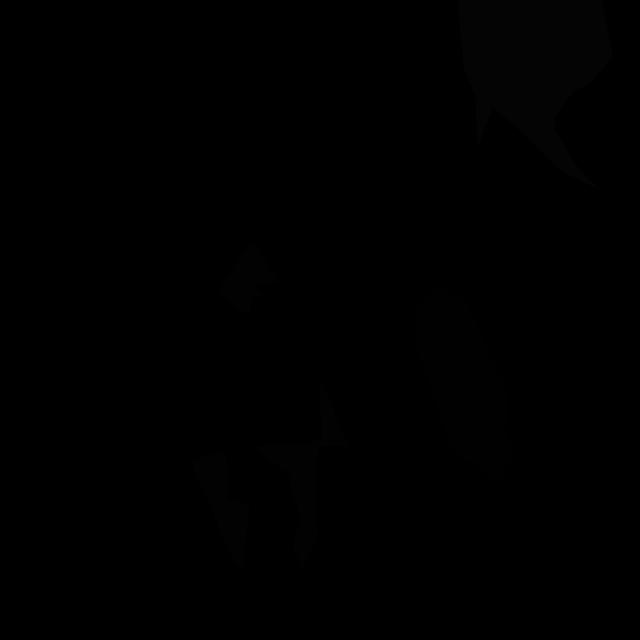cardboard: (252, 375, 349, 570), (190, 451, 250, 567), (216, 245, 278, 315)
rigid_plastic: (414, 287, 512, 484)
soft_plastic: (458, 0, 613, 191)
